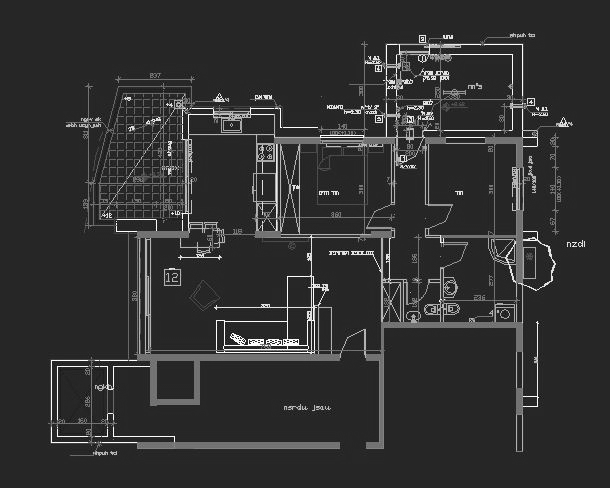door: (338, 326, 368, 360), (403, 273, 433, 307), (437, 236, 467, 270), (425, 200, 455, 234), (367, 197, 397, 231), (396, 132, 426, 166)
